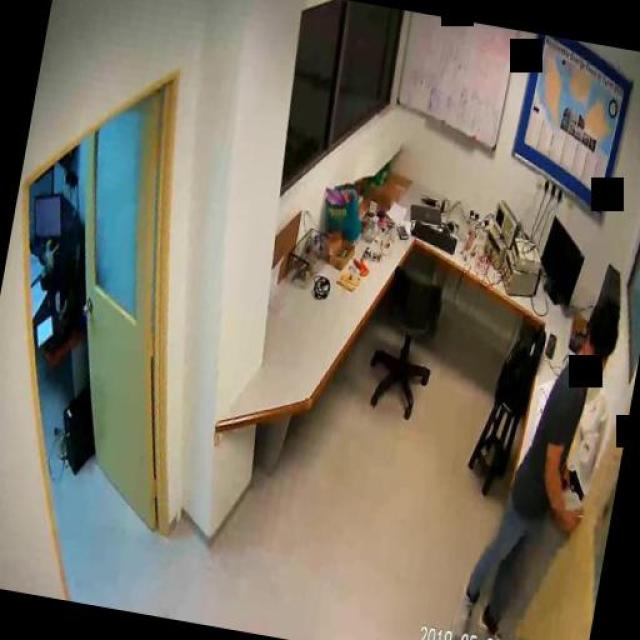gun: (558, 462, 588, 498)
